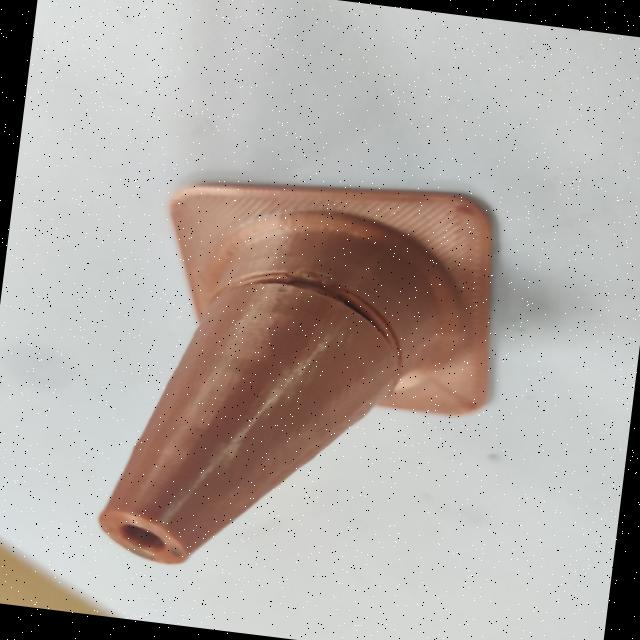cracks: (178, 231, 432, 382)
